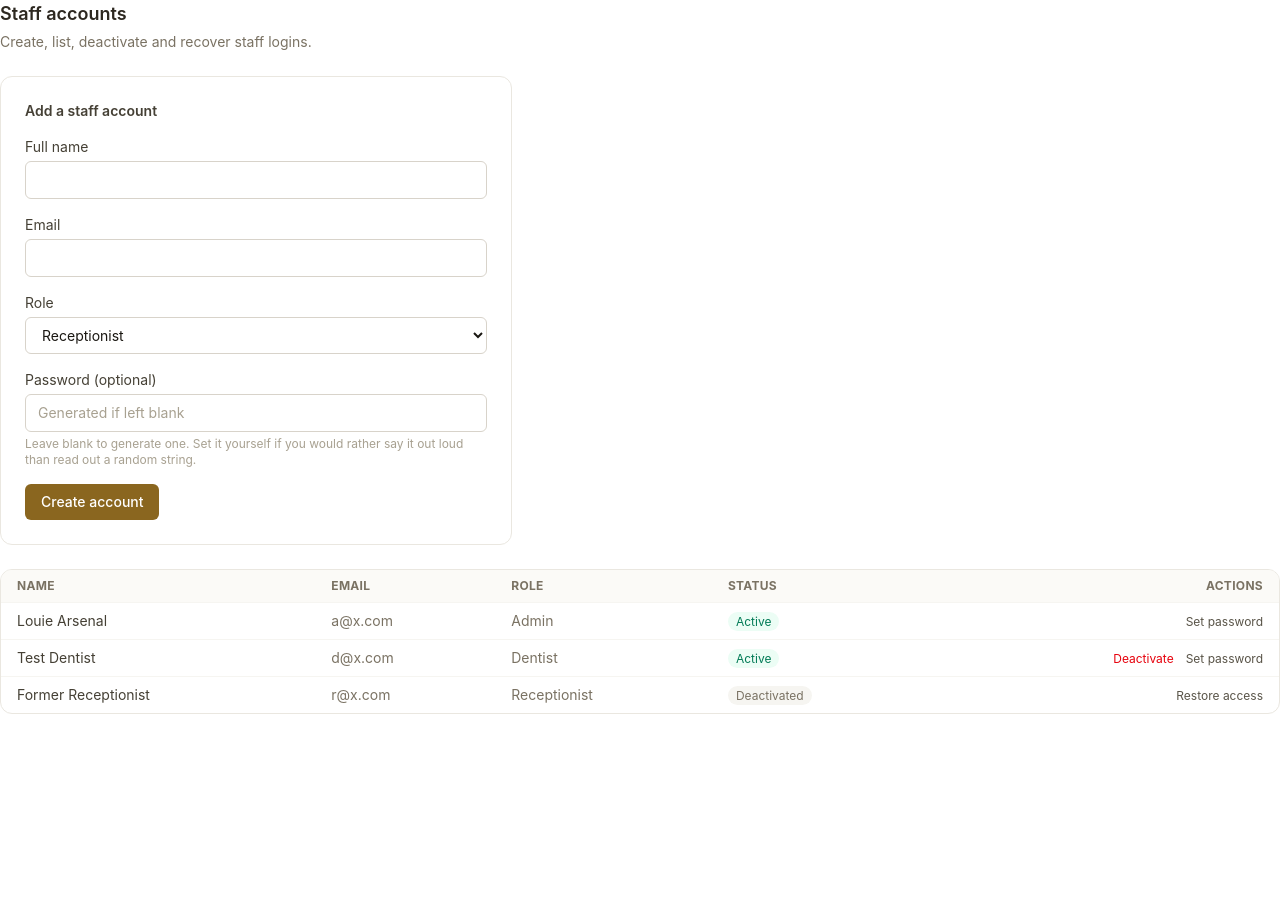
Test: StaffManagementPage › says the password is unchanged
This screenshot has width=1280, height=900.
Check: the text "Former Receptionist" is shown, box [1,676,315,713]
What coordinates should you click on to do the following:
click the button "Restore access"
I would click on:
 (1220, 696)
Its box is [1176,688,1263,704].
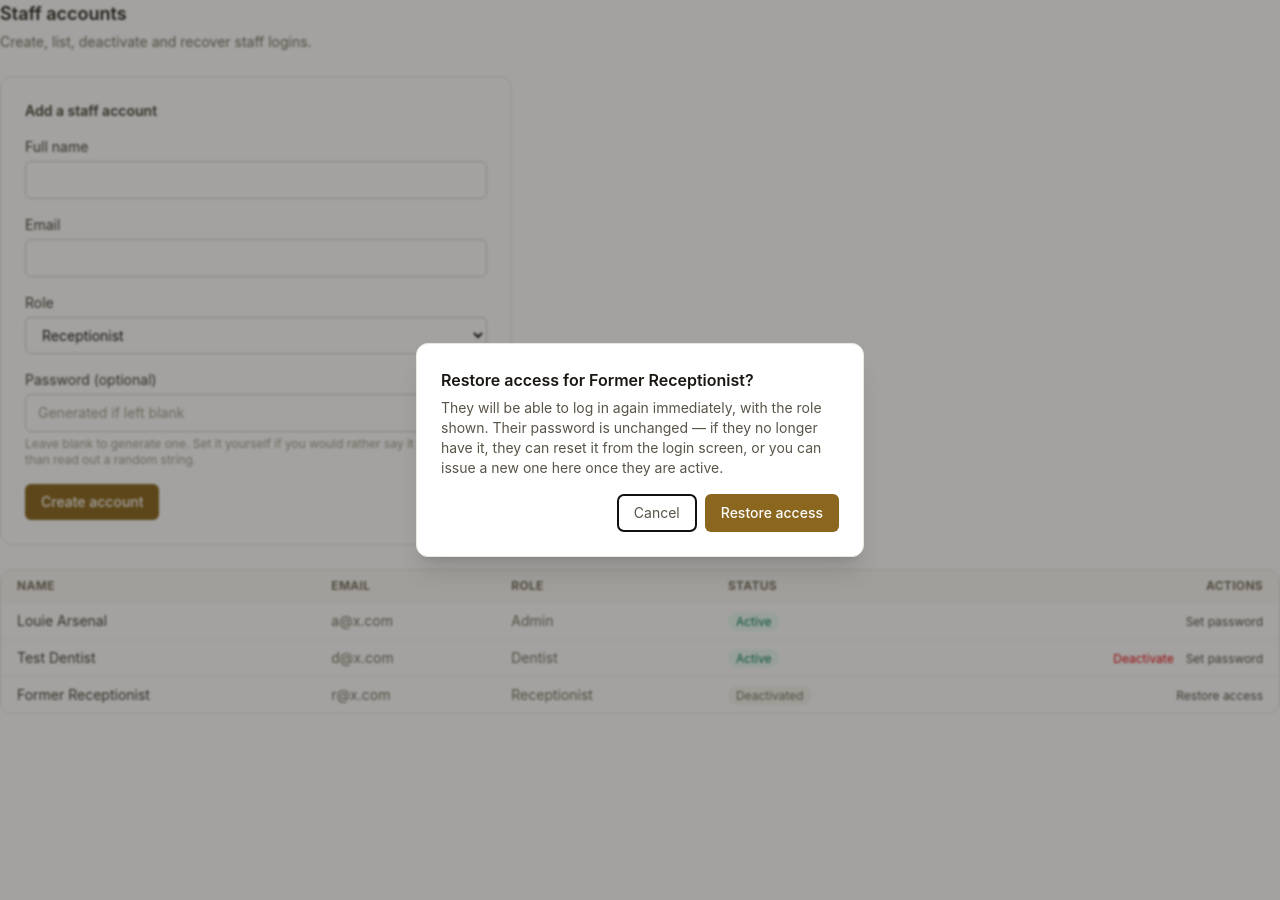
Check: the dialog shows "password is unchanged", box [441,399,822,476]
